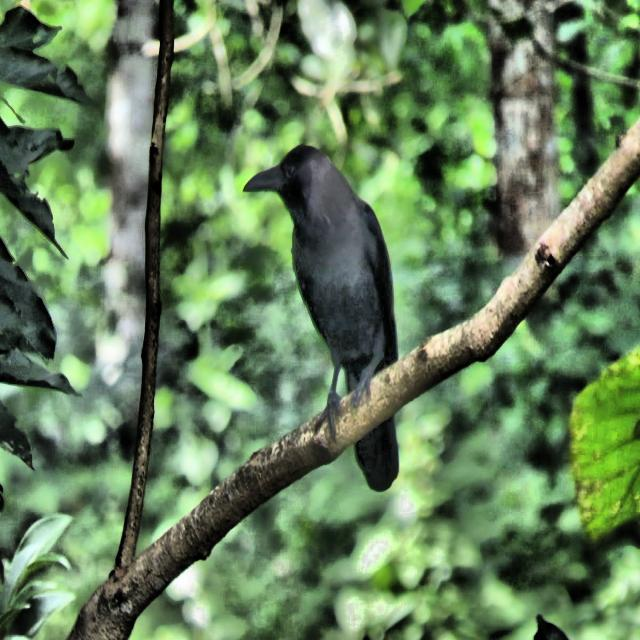crow: (231, 128, 429, 516)
